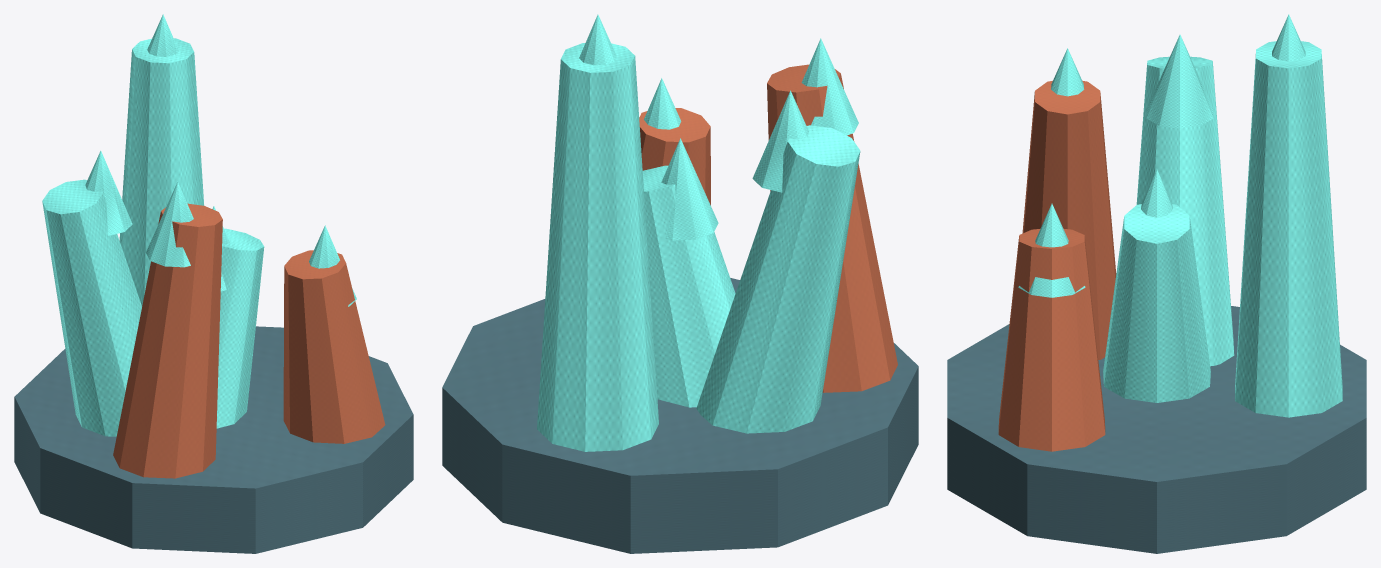
Rendered from atlas100-s042-a04.glb.
3 views of the same model, side by side, from view 1: azimuth 30°, elevation 25°; view 2: azimuth 150°, elevation 25°; view 3: azimuth 270°, elevation 25° (orthographic). The views are drawn at different scales.
Parts seen in each view (by area): view 1: atlas100-s042-a04:part-000, atlas100-s042-a04:part-003, atlas100-s042-a04:part-009, atlas100-s042-a04:part-007, atlas100-s042-a04:part-005, atlas100-s042-a04:part-001, atlas100-s042-a04:part-004, atlas100-s042-a04:part-010, atlas100-s042-a04:part-008, atlas100-s042-a04:part-006; view 2: atlas100-s042-a04:part-000, atlas100-s042-a04:part-005, atlas100-s042-a04:part-009, atlas100-s042-a04:part-001, atlas100-s042-a04:part-003, atlas100-s042-a04:part-007, atlas100-s042-a04:part-002, atlas100-s042-a04:part-004, atlas100-s042-a04:part-010, atlas100-s042-a04:part-008, atlas100-s042-a04:part-006; view 3: atlas100-s042-a04:part-000, atlas100-s042-a04:part-005, atlas100-s042-a04:part-007, atlas100-s042-a04:part-001, atlas100-s042-a04:part-003, atlas100-s042-a04:part-009, atlas100-s042-a04:part-010, atlas100-s042-a04:part-008, atlas100-s042-a04:part-004, atlas100-s042-a04:part-006, atlas100-s042-a04:part-002.
Boxes of the visible parts, x1,y1,x2,y2 form: atlas100-s042-a04:part-000: (14, 326, 413, 553); atlas100-s042-a04:part-003: (113, 203, 222, 478); atlas100-s042-a04:part-009: (42, 179, 141, 436); atlas100-s042-a04:part-007: (283, 250, 385, 443); atlas100-s042-a04:part-005: (119, 38, 204, 306); atlas100-s042-a04:part-001: (216, 228, 264, 428); atlas100-s042-a04:part-004: (146, 181, 193, 267); atlas100-s042-a04:part-010: (85, 150, 132, 235); atlas100-s042-a04:part-008: (309, 225, 356, 306); atlas100-s042-a04:part-006: (147, 14, 178, 56); atlas100-s042-a04:part-000: (442, 278, 918, 553); atlas100-s042-a04:part-005: (537, 43, 658, 451); atlas100-s042-a04:part-009: (696, 125, 860, 433); atlas100-s042-a04:part-001: (642, 165, 735, 407); atlas100-s042-a04:part-003: (767, 64, 897, 392); atlas100-s042-a04:part-007: (639, 108, 710, 205); atlas100-s042-a04:part-002: (661, 138, 718, 240); atlas100-s042-a04:part-004: (801, 38, 858, 135); atlas100-s042-a04:part-010: (752, 90, 808, 192); atlas100-s042-a04:part-008: (644, 78, 681, 129); atlas100-s042-a04:part-006: (579, 14, 616, 65); atlas100-s042-a04:part-000: (947, 306, 1366, 553); atlas100-s042-a04:part-005: (1235, 41, 1342, 417); atlas100-s042-a04:part-007: (998, 228, 1105, 451); atlas100-s042-a04:part-001: (1103, 204, 1210, 402); atlas100-s042-a04:part-003: (1022, 80, 1116, 359); atlas100-s042-a04:part-009: (1136, 56, 1234, 366); atlas100-s042-a04:part-010: (1146, 34, 1213, 128); atlas100-s042-a04:part-008: (1018, 203, 1085, 297); atlas100-s042-a04:part-004: (1051, 48, 1084, 96); atlas100-s042-a04:part-006: (1272, 14, 1305, 61); atlas100-s042-a04:part-002: (1141, 169, 1172, 217).
Bounding box in the file's own units: 1.07 × 1.21 × 1.02.
3 materials, 3 textured.
